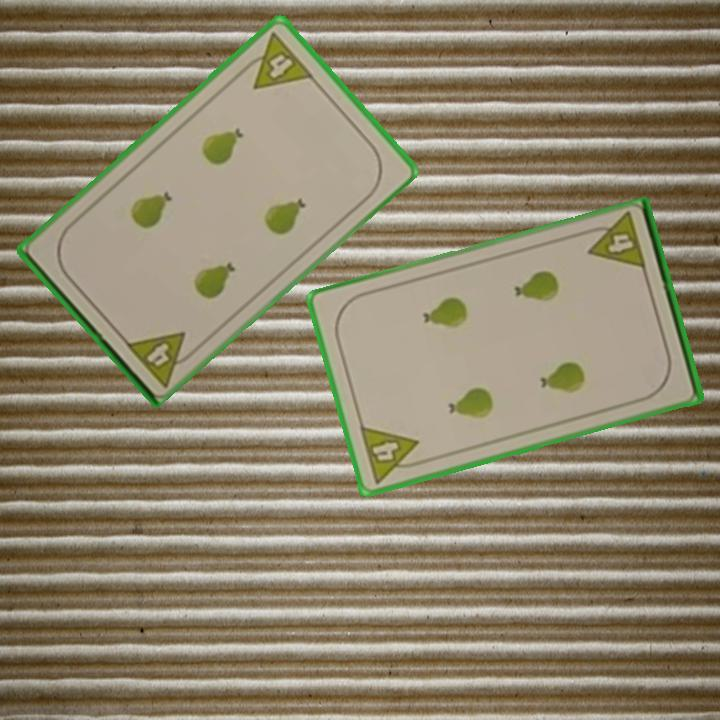4p: (236, 28, 316, 92), (121, 327, 201, 389), (356, 422, 427, 486), (580, 210, 649, 274)
